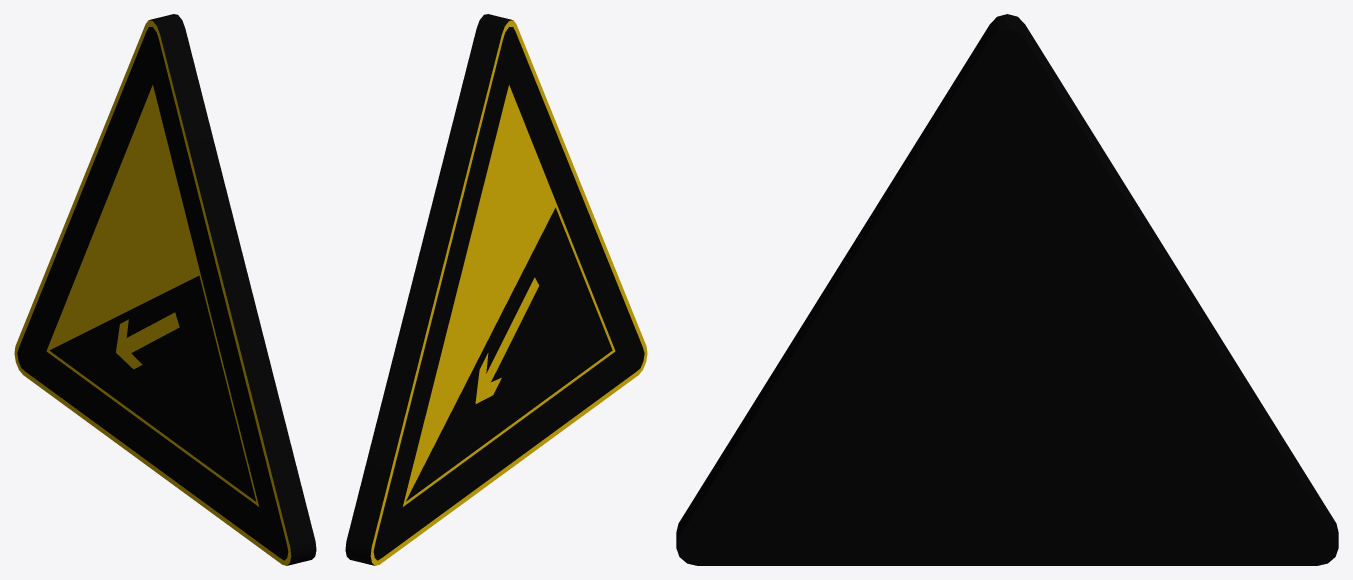
File: Down_Steep_Slope.fbx
3 views of the same model, side by side, from view 1: azimuth 30°, elevation 25°; view 2: azimuth 150°, elevation 25°; view 3: azimuth 270°, elevation 25° (orthographic). The views are drawn at different scales.
Visible parts, largest first — view 1: Down_Steep_Slope; view 2: Down_Steep_Slope; view 3: Down_Steep_Slope.
Part boxes in pixels (bbox=[...]): Down_Steep_Slope: bbox=[14, 14, 316, 565]; Down_Steep_Slope: bbox=[345, 14, 647, 565]; Down_Steep_Slope: bbox=[676, 14, 1338, 565].
Size of the model in its own units: 0.064 by 1.02 by 1.14.
